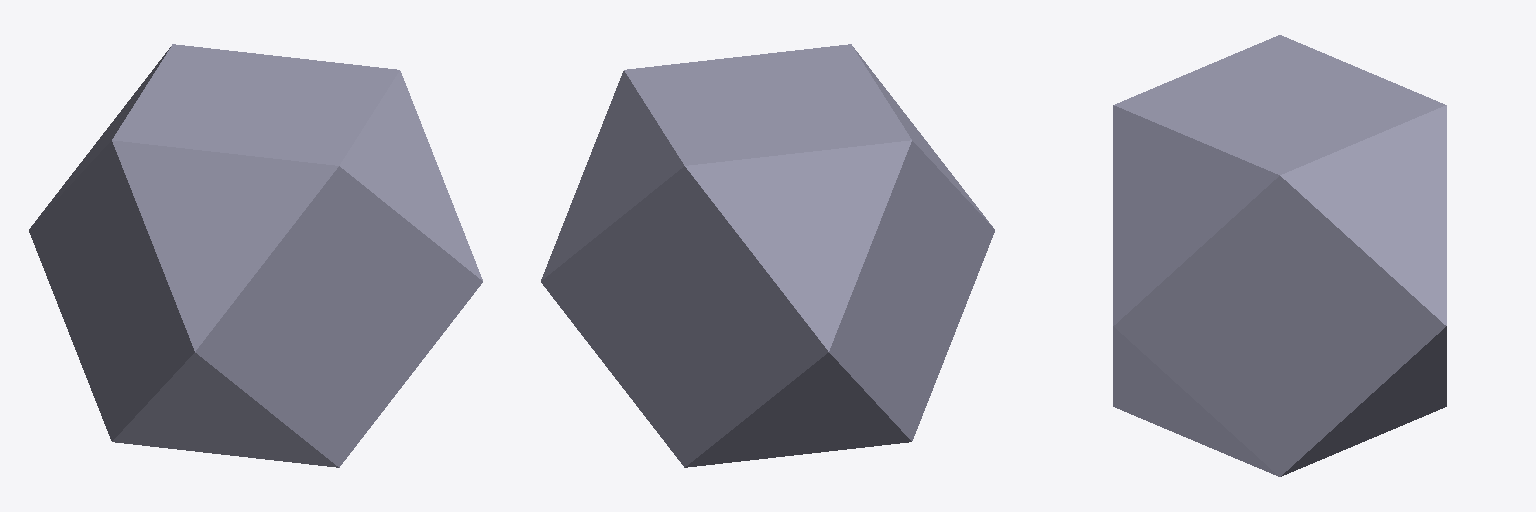
File: coriolis.obj
3 renders of one model, left to right at view 1: azimuth 30°, elevation 25°; view 2: azimuth 150°, elevation 25°; view 3: azimuth 270°, elevation 25°, orthographic.
Parts seen in each view (by area): view 1: Shape_IndexedFaceSet_Shape_IndexedFaceSet.001; view 2: Shape_IndexedFaceSet_Shape_IndexedFaceSet.001; view 3: Shape_IndexedFaceSet_Shape_IndexedFaceSet.001.
Part boxes in pixels (x1,y1,x2,y2): Shape_IndexedFaceSet_Shape_IndexedFaceSet.001: (29,44,482,467); Shape_IndexedFaceSet_Shape_IndexedFaceSet.001: (541,44,994,467); Shape_IndexedFaceSet_Shape_IndexedFaceSet.001: (1113,35,1446,476).
Size of the model in its own units: 320 by 320 by 320.